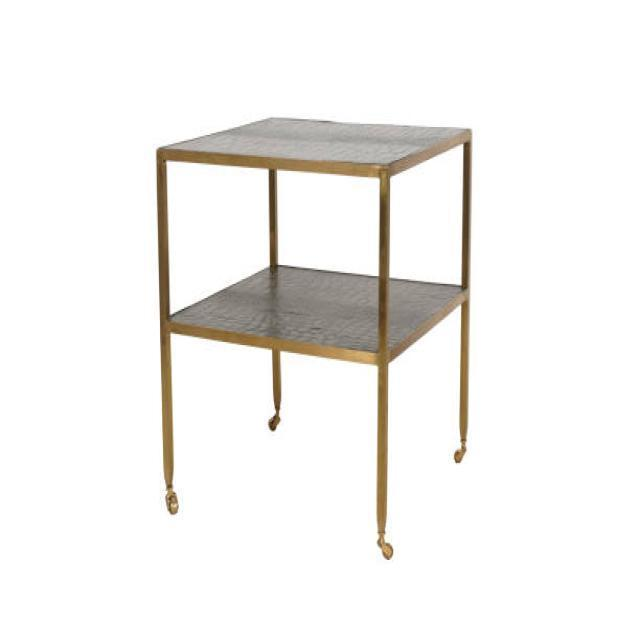table: (154, 114, 472, 558)
